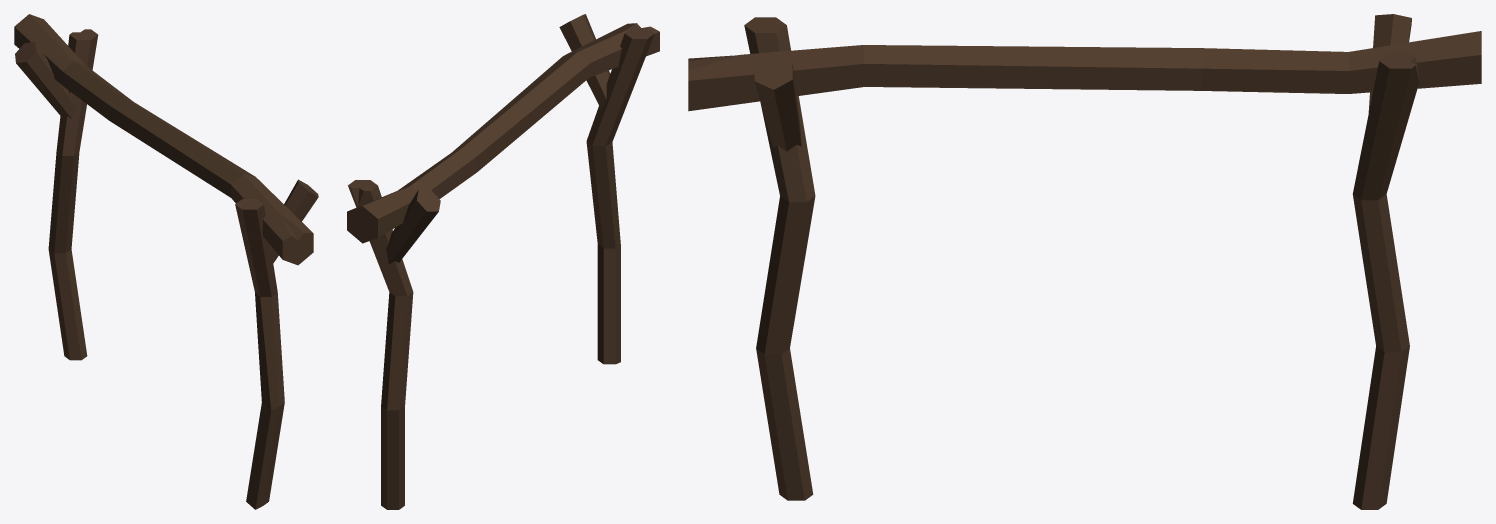
The model's file is Fire_Pick.fbx.
3 renders of one model, left to right at view 1: azimuth 30°, elevation 25°; view 2: azimuth 150°, elevation 25°; view 3: azimuth 270°, elevation 25°, orthographic. The views are drawn at different scales.
Visible parts, largest first — view 1: Fire_Pick; view 2: Fire_Pick; view 3: Fire_Pick.
Part boxes in pixels (box(x1,y1,x2,y2)): Fire_Pick: box(14, 14, 318, 509); Fire_Pick: box(347, 14, 659, 509); Fire_Pick: box(688, 14, 1481, 509).
Size of the model in its own units: 23.46 by 77.98 by 119.
